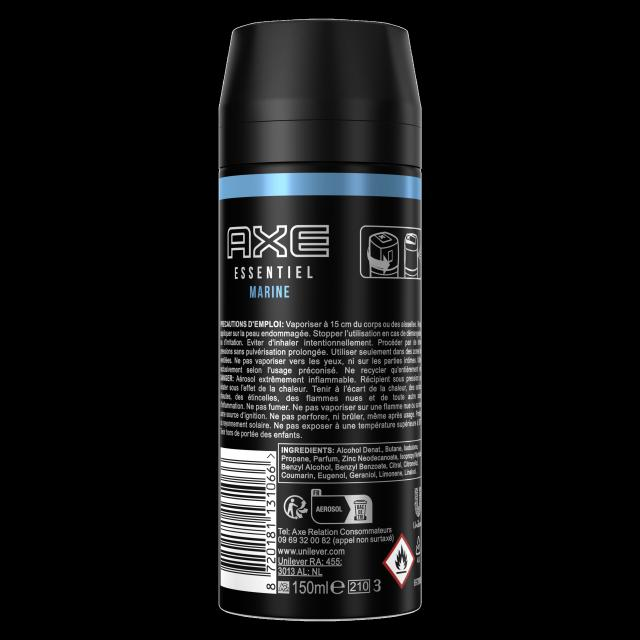GHS_Symbol_FLAME: (382, 532, 417, 589)
